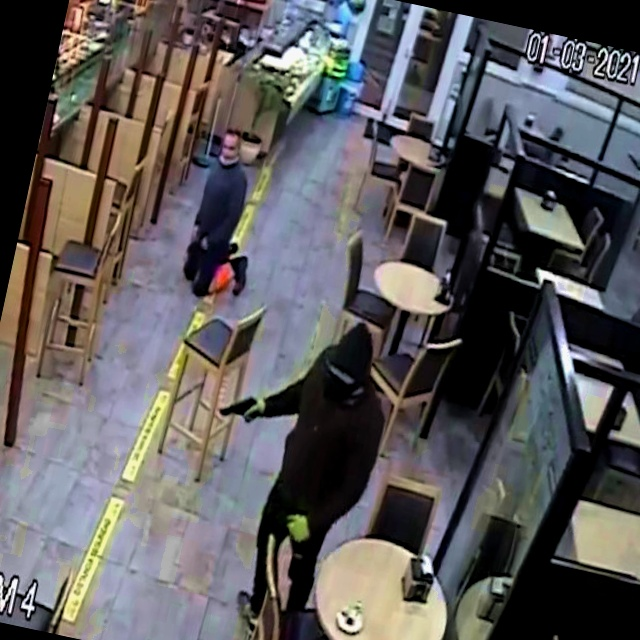gun: (202, 376, 279, 448)
